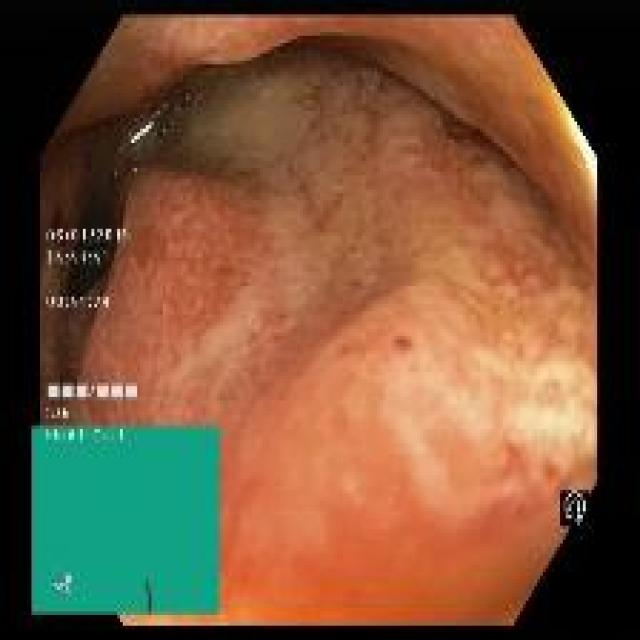ulcerative-colitis: (44, 39, 596, 623)
